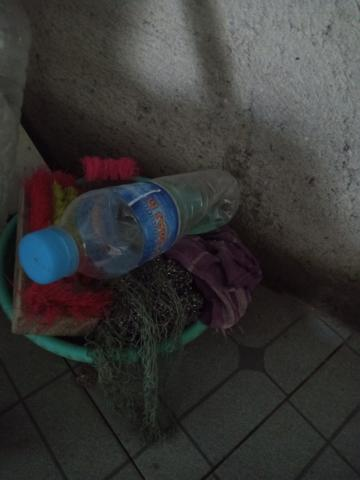botol_kaca: (16, 162, 257, 291)
